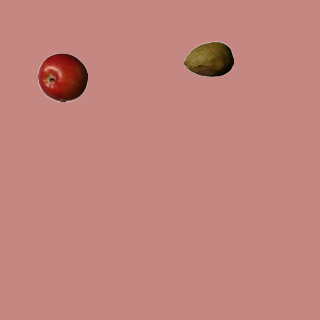Apple Braeburn: (37, 52, 87, 102)
Papaya: (183, 34, 233, 84)
